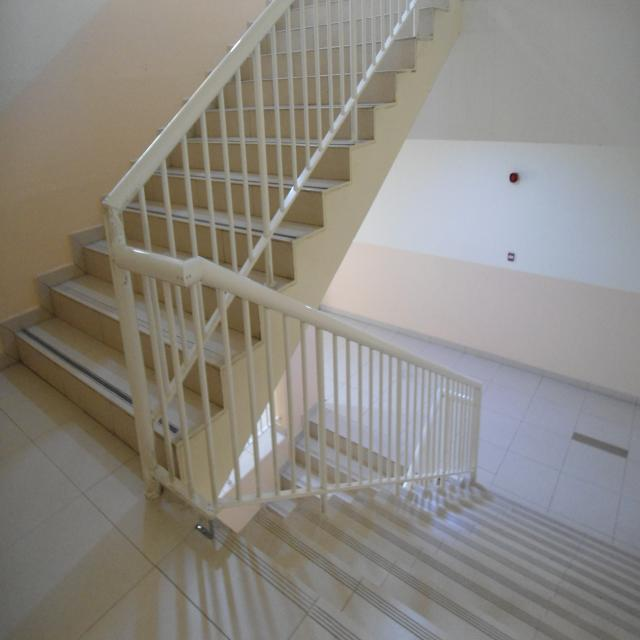railing: (96, 0, 436, 499), (112, 248, 484, 524)
stairs: (16, 0, 449, 482), (211, 474, 640, 640), (237, 412, 431, 536)
